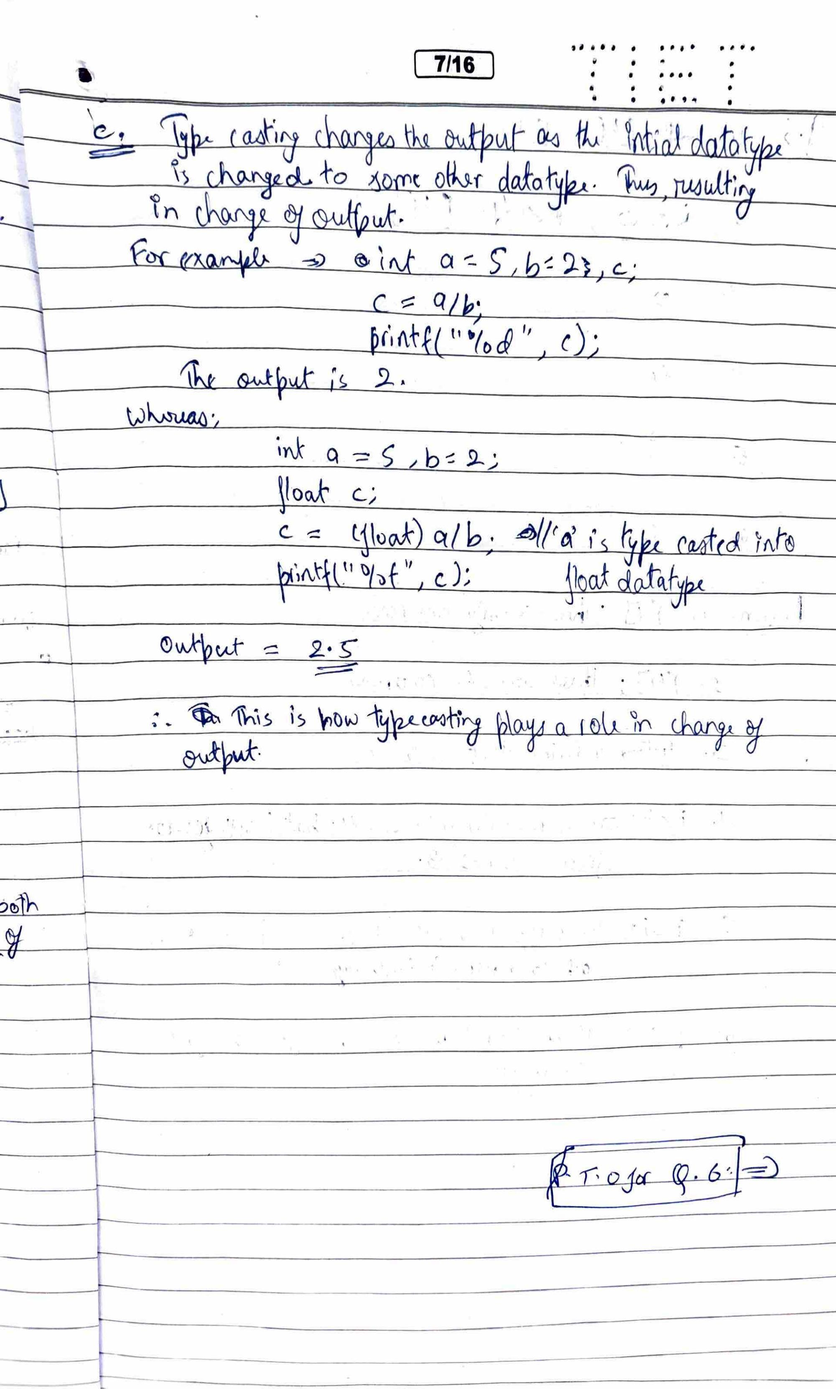cuttings: (188, 702, 221, 728), (515, 523, 537, 541)
